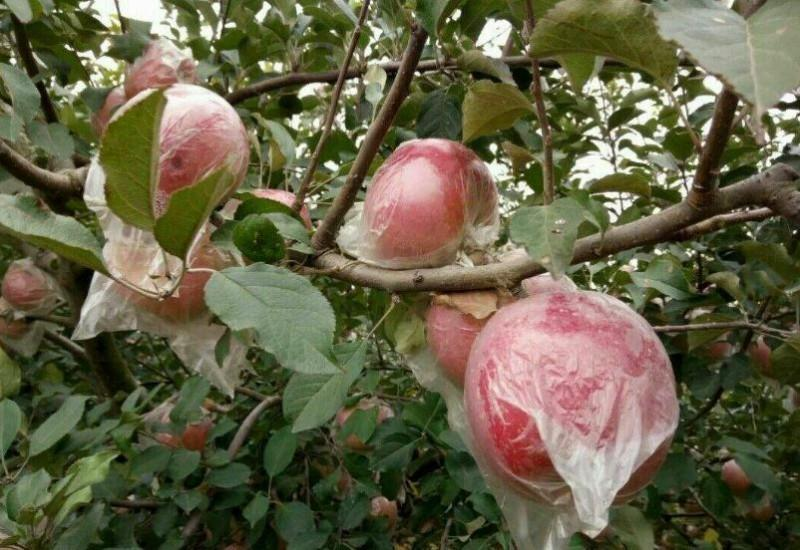apple: (467, 289, 678, 504), (357, 136, 503, 270), (110, 85, 249, 215)
